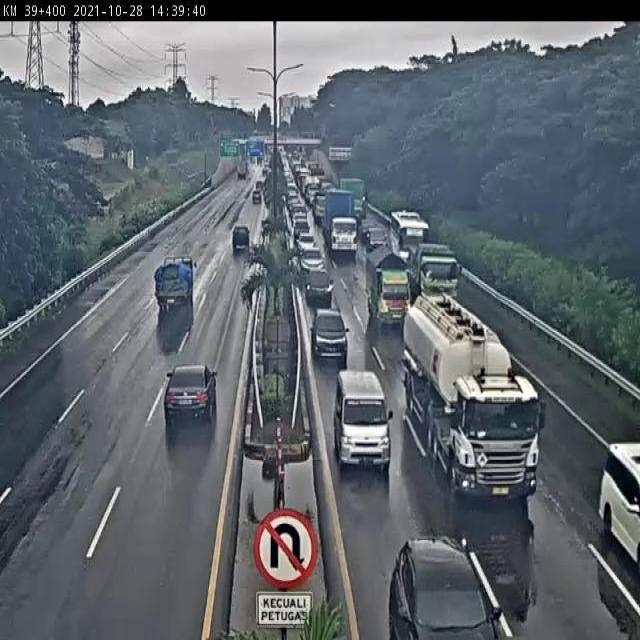car: (388, 534, 504, 640), (333, 372, 392, 471), (163, 367, 217, 425), (308, 308, 354, 359), (305, 269, 336, 304), (301, 248, 326, 277), (362, 227, 389, 249), (231, 224, 252, 251)
truck: (400, 295, 541, 503), (364, 248, 412, 319), (409, 247, 463, 303), (389, 212, 429, 265), (153, 259, 196, 308)
